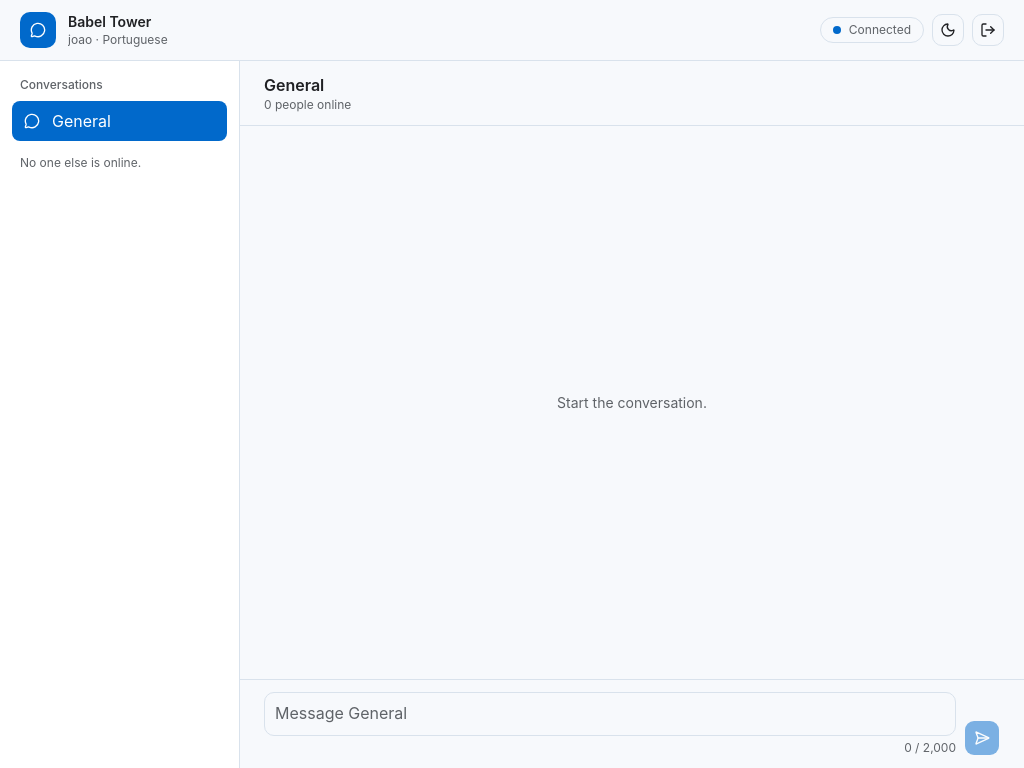
Test: App › starts connected when a token already exists and can sign out
Check: the heading "General" is shown, box [264,75,324,95]
Check: the text "joao · Portuguese" is shown, box [68,32,168,48]
Click the button named "Sign out". click: (988, 30)
box: [972,14,1004,46]
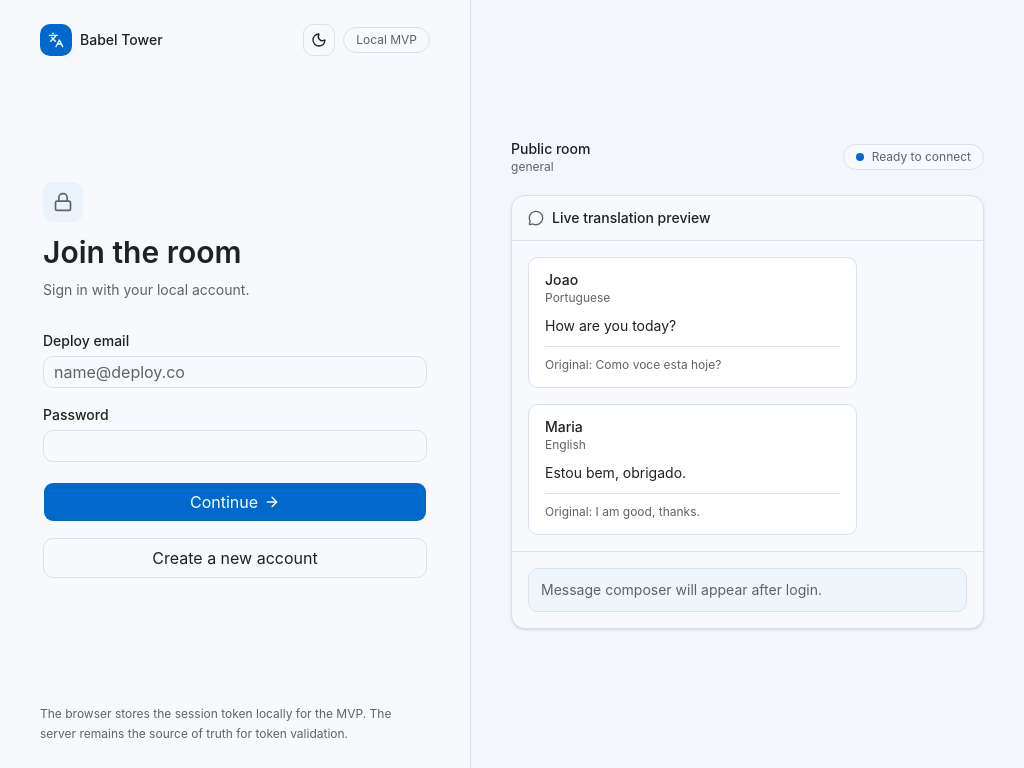
Check: the heading "Join the room" is shown, box [43,234,242,270]
